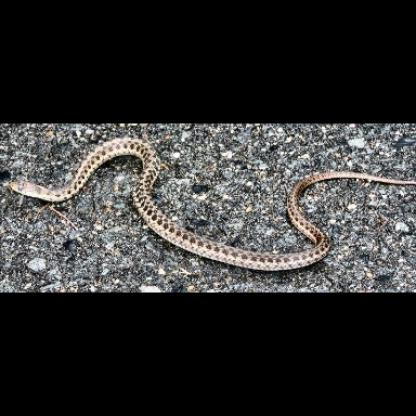Snake: (11, 136, 413, 272)
